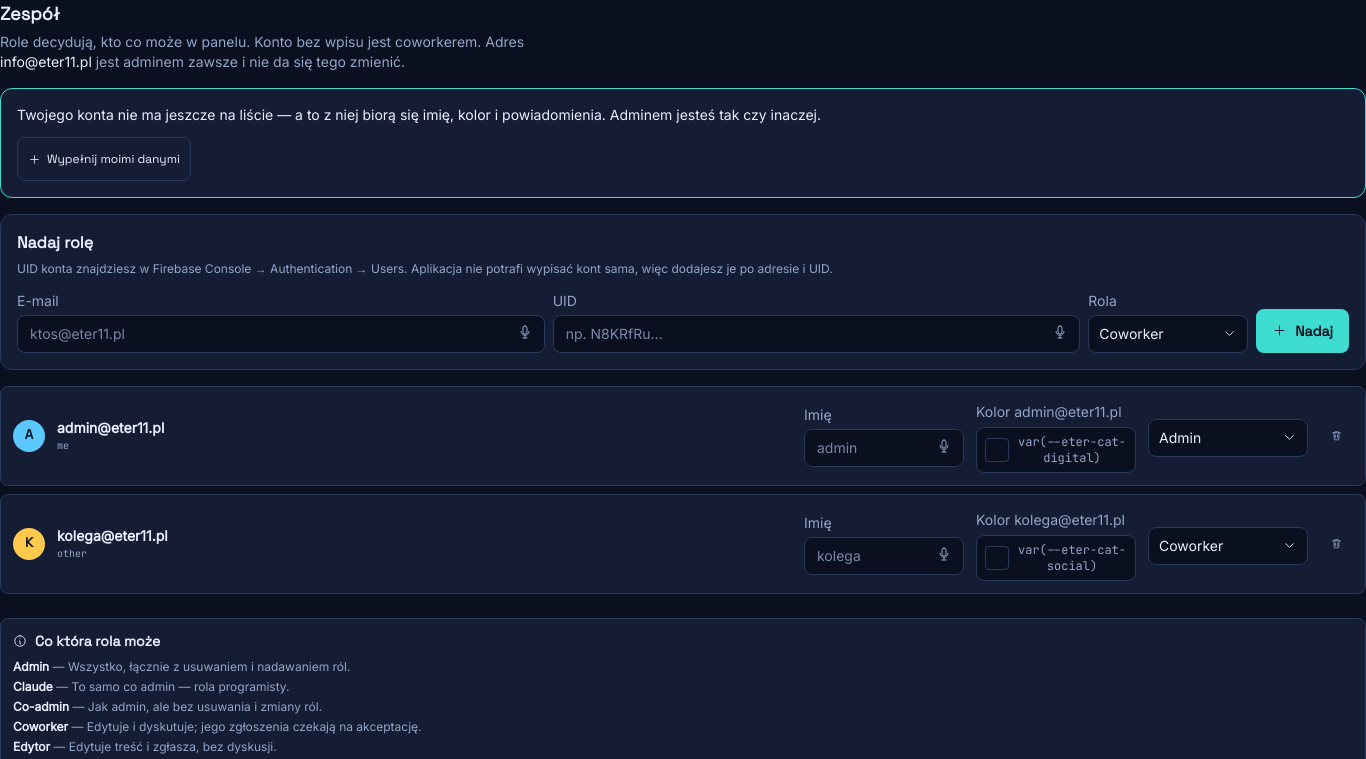
Test: TeamPanel — trwałe usunięcie konta › cudze konto usuwa dopiero po potwierdzeniu
The width and height of the screenshot is (1366, 759).
Click the button named "Usuń konto kolega@eter11.pl na stałe".
click(1336, 544)  # box [1320, 522, 1353, 566]
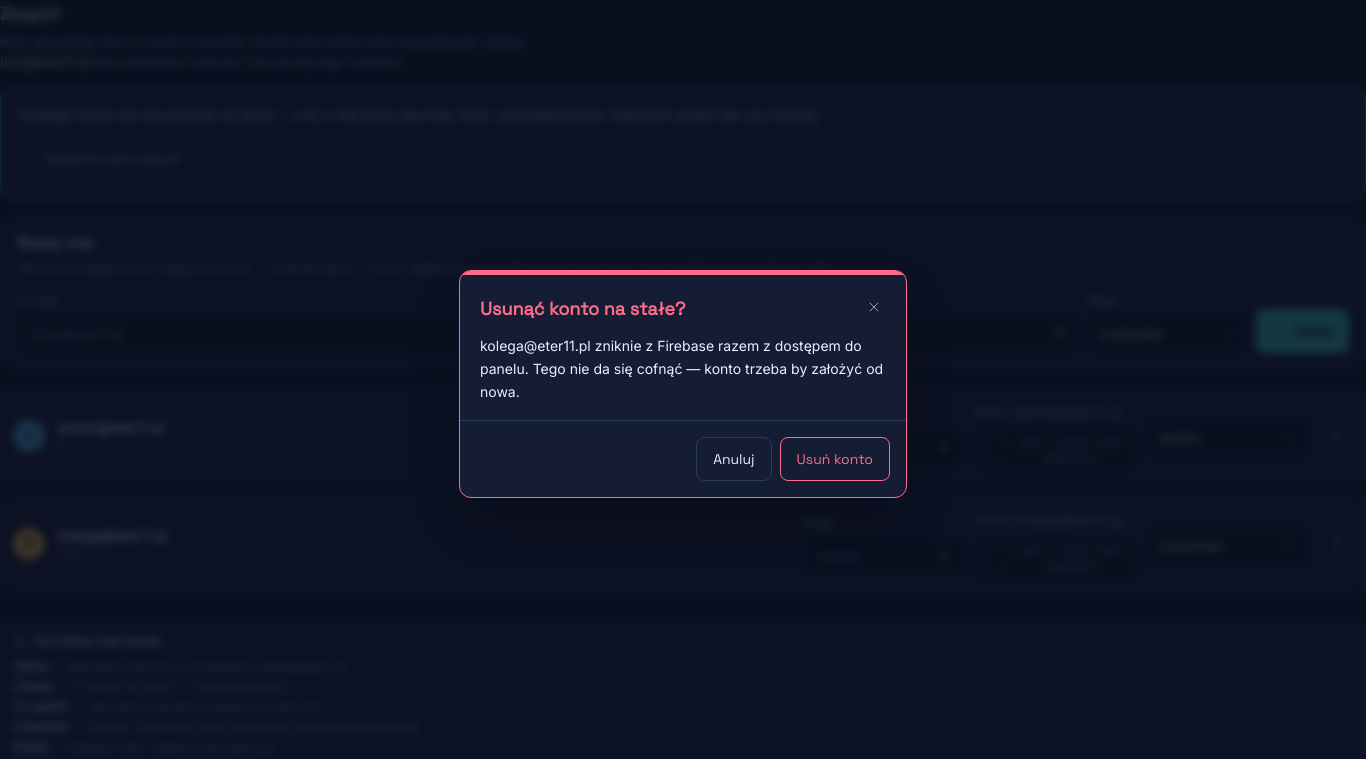
Expected: the heading "Usunąć konto na stałe?" is shown, [480, 295, 686, 323]
Click the button "Usuń konto".
click(835, 459)  # box [780, 437, 890, 481]
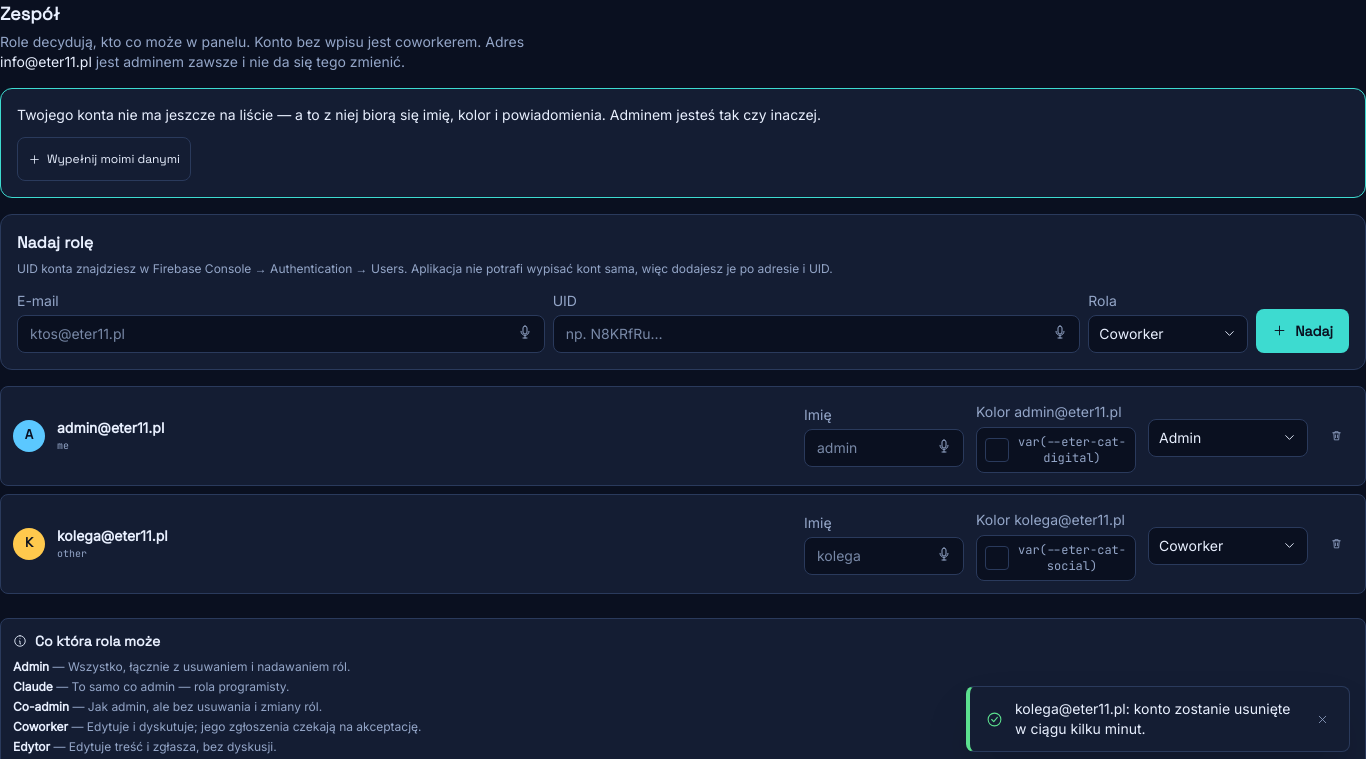
Expected: the text "zostanie usunięte" is shown, [1015, 700, 1290, 737]
